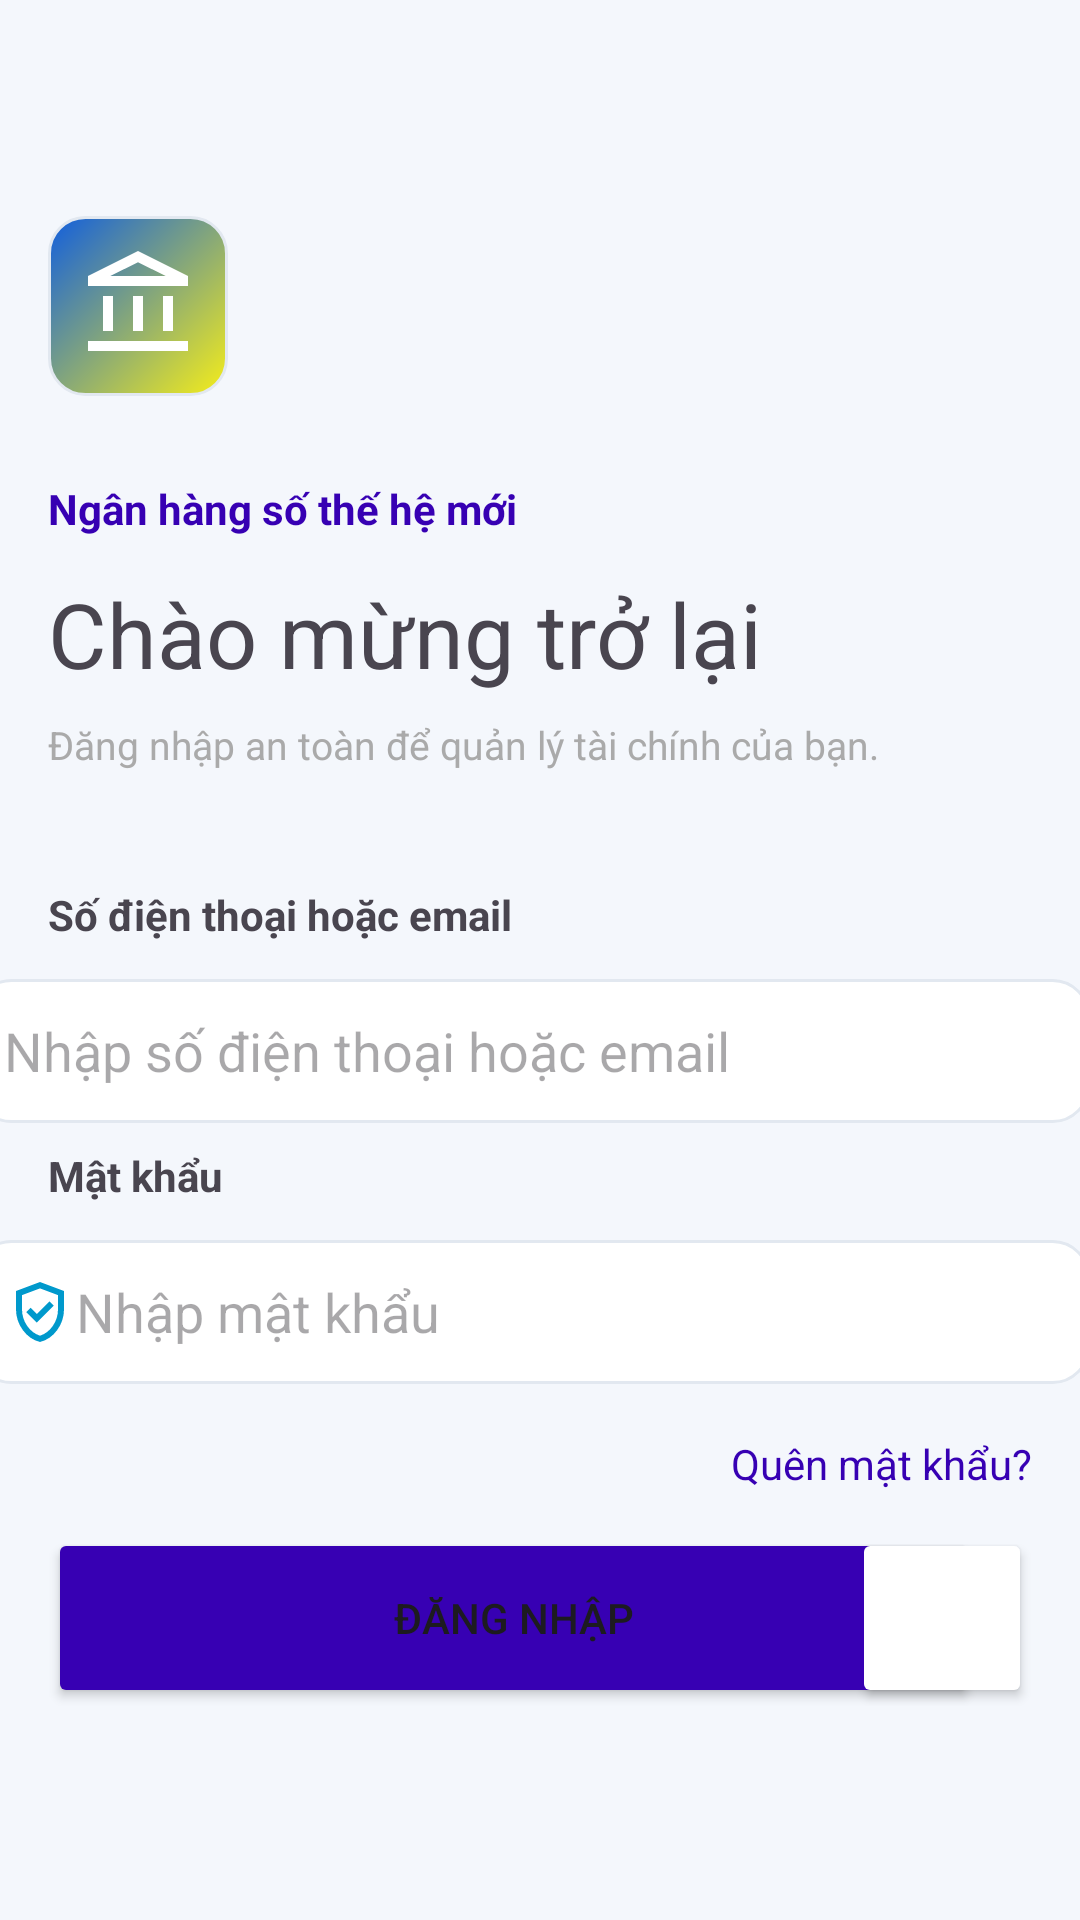

Named icons in this screenshot (1080px×1920px) and their bounding boxes, [left=x1, top=y1, right=x2, bottom=y2]:
account balance: [left=51, top=219, right=225, bottom=393]
